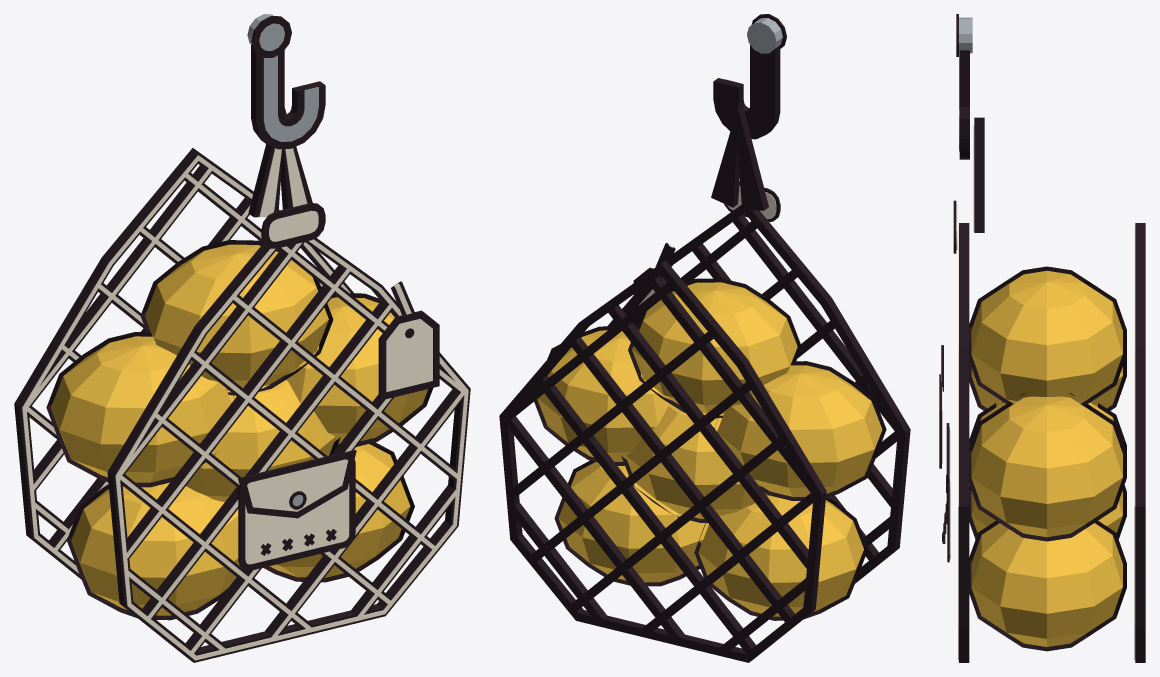
3 views of the same model, side by side, from view 1: azimuth 30°, elevation 25°; view 2: azimuth 150°, elevation 25°; view 3: azimuth 270°, elevation 25° (orthographic). The views are drawn at different scales.
Visible parts, largest first — view 1: Bag Holders proposal; view 2: Bag Holders proposal; view 3: Bag Holders proposal.
Boxes of the visible parts, x1,y1,x2,y2 form: Bag Holders proposal: (14, 14, 470, 662); Bag Holders proposal: (499, 14, 910, 662); Bag Holders proposal: (939, 14, 1145, 662).
Size of the model in its own units: 0.6276 by 1.01 by 0.3168.
